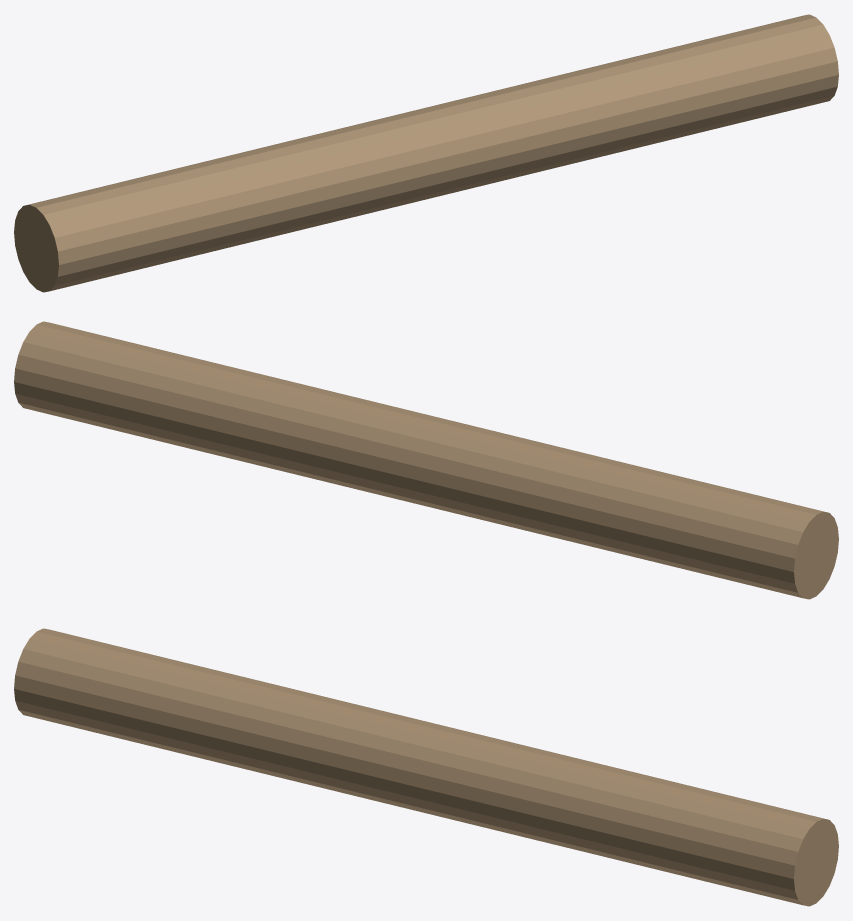
File: floating_log.glb
3 renders of one model, top to bottom at view 1: azimuth 30°, elevation 25°; view 2: azimuth 150°, elevation 25°; view 3: azimuth 330°, elevation 25°, orthographic.
Visible parts, largest first — view 1: part0; view 2: part0; view 3: part0.
Boxes of the visible parts, x1=… form: part0: x1=14, y1=14, x2=838, y2=292; part0: x1=14, y1=321, x2=838, y2=599; part0: x1=14, y1=628, x2=838, y2=906.
Size of the model in its own units: 5 by 0.5 by 0.5.
